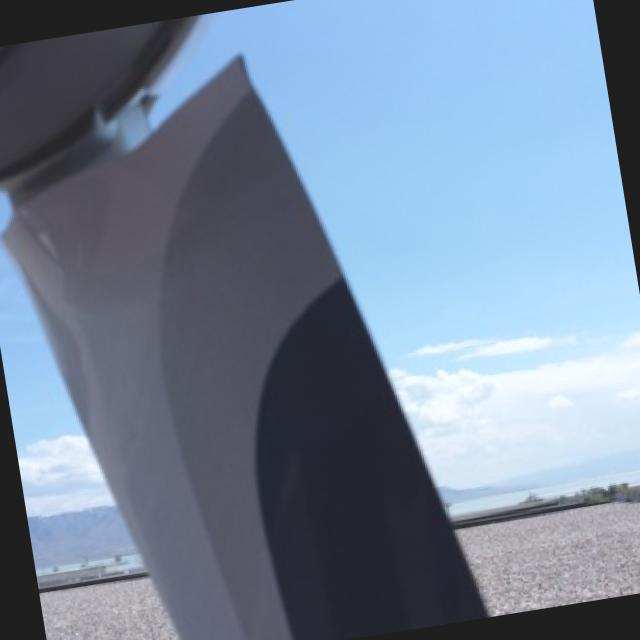healthy: (174, 555, 268, 640)
